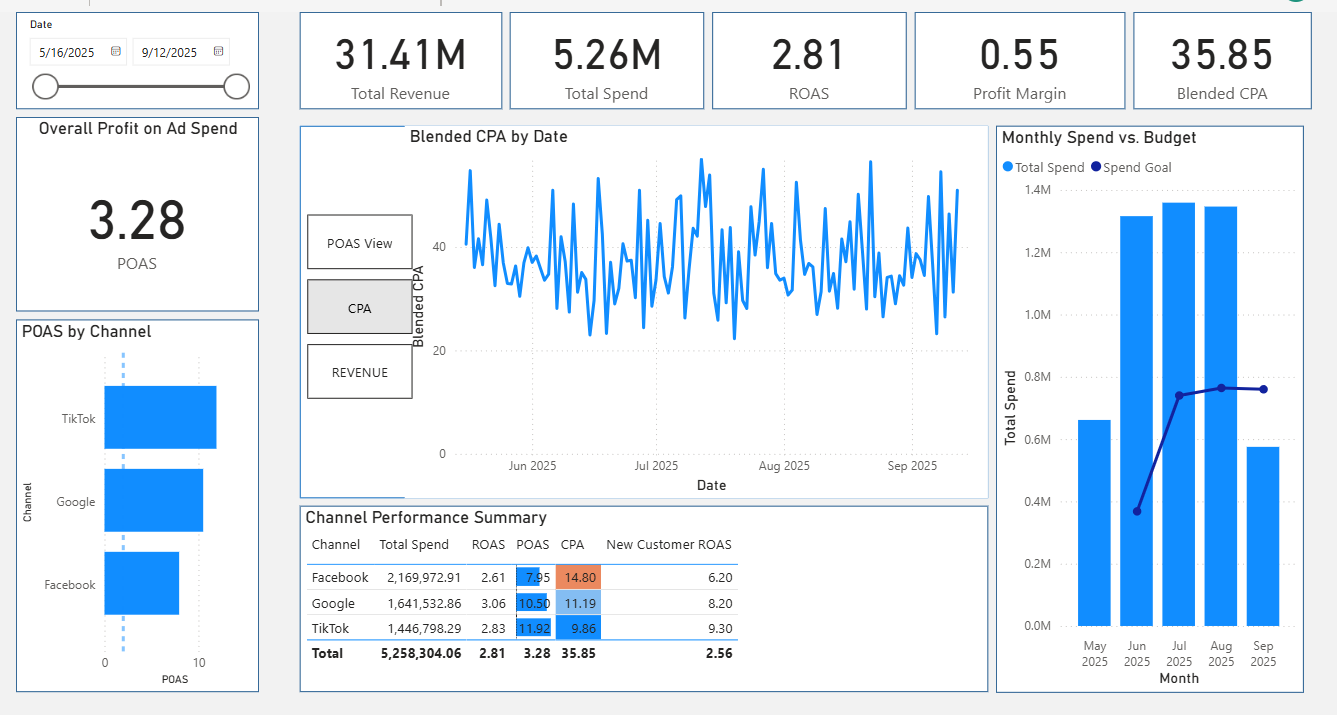

This screenshot's page, from the dashboard's own definition file:
{"tool":"powerbi","page":{"name":"Executive Summary","canvas":[1280,720],"ordinal":0},"visuals":[{"type":"shape","box":[280,112,680,368],"z":0},{"type":"card","fields":{"Values":["Marketing.ROAS"]},"box":[688,0,192,96],"z":1000},{"type":"card","fields":{"Values":["Marketing.Total Spend"]},"box":[488,0,192,96],"z":2000},{"type":"card","fields":{"Values":["business.Total_Revenue"]},"box":[280,0,200,96],"z":3000},{"type":"card","fields":{"Values":["Marketing.Blended CPA"]},"box":[1104,0,176,96],"z":4000},{"type":"card","fields":{"Values":["business.Profit_Margin"]},"box":[888,0,208,96],"z":5000},{"type":"lineStackedColumnComboChart","title":"Revenue vs. Spend Over Time","fields":{"Category":["Date.Date"],"Y":["Marketing.Total Spend"],"Y2":["business.Total_Revenue"]},"box":[400,120,552,352],"z":6000},{"type":"slicer","fields":{"Values":["Date.Date"]},"box":[0,0,240,96],"z":7000},{"type":"lineClusteredColumnComboChart","title":"Monthly Spend vs. Budget","fields":{"Y":["Marketing.Total Spend"],"Y2":["Marketing.Spend Goal"],"Category":["Date.Month"]},"box":[976,112,304,560],"z":9000},{"type":"card","title":"Overall Profit on Ad Spend","fields":{"Values":["Marketing.POAS"]},"box":[0,104,240,192],"z":10000},{"type":"clusteredBarChart","fields":{"Category":["Marketing.Channel"],"Y":["Marketing.POAS"]},"box":[0,304,240,368],"z":12000},{"type":"tableEx","title":"Channel Performance Summary","fields":{"Values":["Marketing.Channel","Marketing.Total Spend","Marketing.ROAS","Marketing.POAS","Marketing.CPA","business.New Customer ROAS"]},"box":[280,488,680,184],"z":13000},{"type":"bookmarkNavigator","box":[288,200,104,184],"z":14000}]}

Visuals, with their boxes on the page's 1280x720 design canvas (x1, y1, x2, y2). These are canvas units, not pixel positions in the 1337x715 screenshot, which may show the page scaled, cropped or inside an application window:
shape: pyautogui.locateOnScreen(280, 112, 960, 480)
card - Marketing.ROAS: pyautogui.locateOnScreen(688, 0, 880, 96)
card - Marketing.Total Spend: pyautogui.locateOnScreen(488, 0, 680, 96)
card - business.Total_Revenue: pyautogui.locateOnScreen(280, 0, 480, 96)
card - Marketing.Blended CPA: pyautogui.locateOnScreen(1104, 0, 1280, 96)
card - business.Profit_Margin: pyautogui.locateOnScreen(888, 0, 1096, 96)
"Revenue vs. Spend Over Time" lineStackedColumnComboChart: pyautogui.locateOnScreen(400, 120, 952, 472)
slicer - Date.Date: pyautogui.locateOnScreen(0, 0, 240, 96)
"Monthly Spend vs. Budget" lineClusteredColumnComboChart: pyautogui.locateOnScreen(976, 112, 1280, 672)
"Overall Profit on Ad Spend" card: pyautogui.locateOnScreen(0, 104, 240, 296)
clusteredBarChart - Marketing.Channel x Marketing.POAS: pyautogui.locateOnScreen(0, 304, 240, 672)
"Channel Performance Summary" tableEx: pyautogui.locateOnScreen(280, 488, 960, 672)
bookmarkNavigator: pyautogui.locateOnScreen(288, 200, 392, 384)
